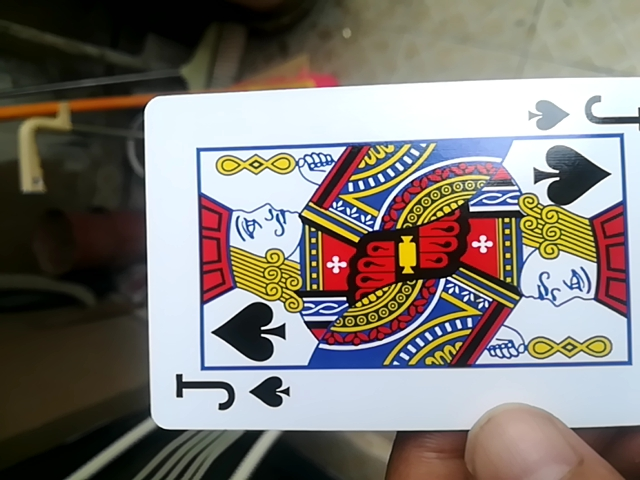ht j: (138, 80, 640, 433)
